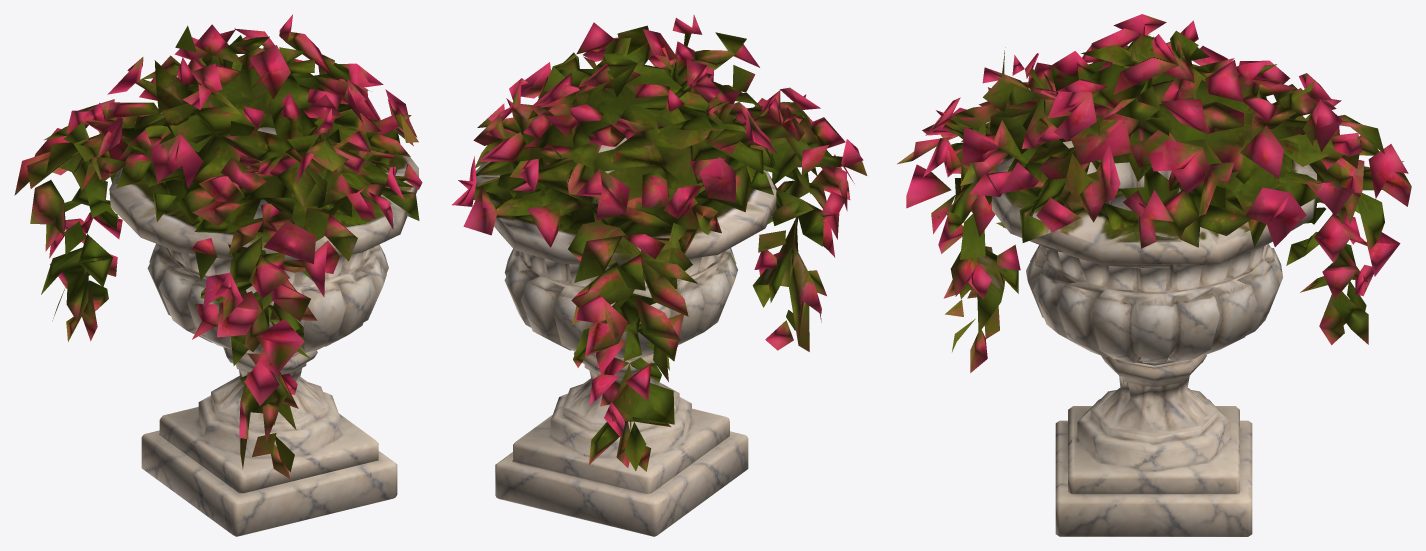
The model's file is SM_Env_Urn.fbx.
3 renders of one model, left to right at view 1: azimuth 30°, elevation 25°; view 2: azimuth 150°, elevation 25°; view 3: azimuth 270°, elevation 25°, orthographic. The views are drawn at different scales.
Parts seen in each view (by area): view 1: SM_Env_Urn; view 2: SM_Env_Urn; view 3: SM_Env_Urn.
Boxes of the visible parts, left/top/right/bottom form: SM_Env_Urn: left=14, top=14, right=422, bottom=536; SM_Env_Urn: left=452, top=15, right=867, bottom=536; SM_Env_Urn: left=897, top=14, right=1411, bottom=536.
Bounding box in the file's own units: 23.63 × 34.32 × 35.
1 material, 1 textured.
